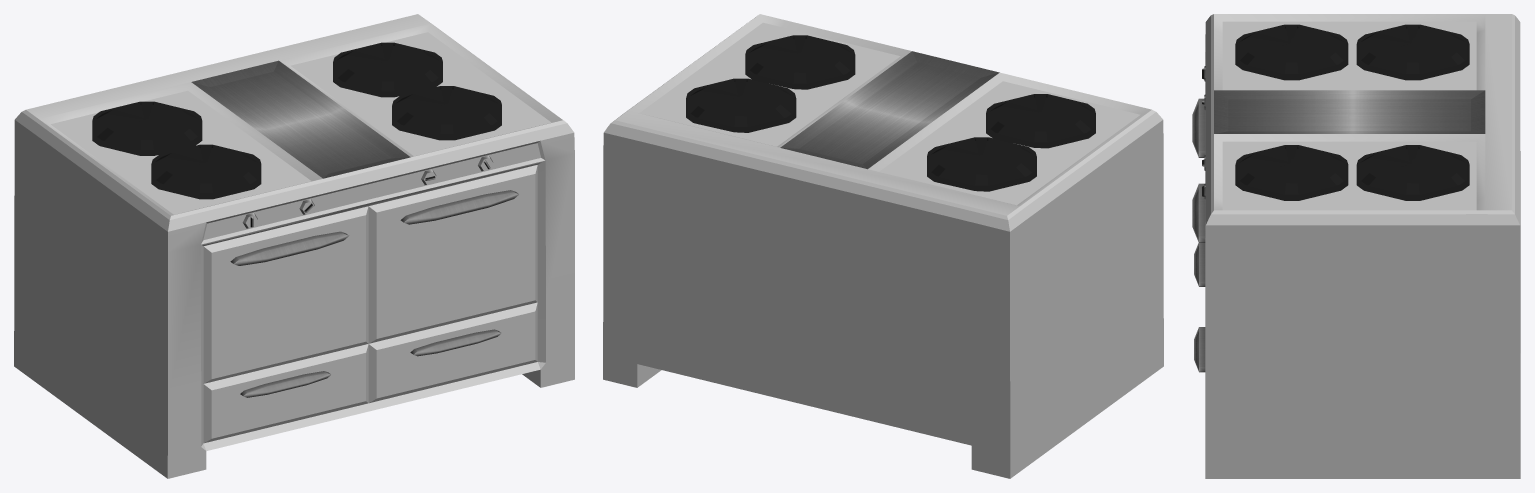
The model's file is Stove_And_Oven_03.FBX.
The picture shows the model from 3 angles, left to right: view 1: azimuth 30°, elevation 25°; view 2: azimuth 150°, elevation 25°; view 3: azimuth 270°, elevation 25°; orthographic projection. The views are drawn at different scales.
Visible parts, largest first — view 1: Oven/Stove; view 2: Oven/Stove; view 3: Oven/Stove.
Part boxes in pixels (left/top/right/bottom): Oven/Stove: left=14, top=14, right=574, bottom=478; Oven/Stove: left=603, top=14, right=1163, bottom=478; Oven/Stove: left=1192, top=14, right=1520, bottom=478.
Bounding box in the file's own units: 230 × 143 × 157.
